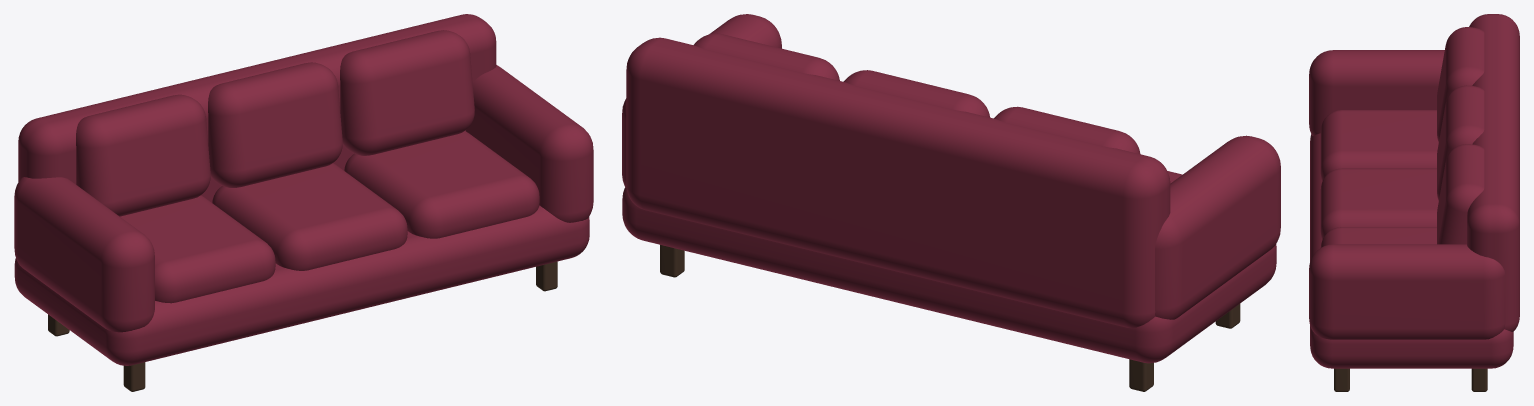
File: sofa_no_pillows_burgundy.glb
3 renders of one model, left to right at view 1: azimuth 30°, elevation 25°; view 2: azimuth 150°, elevation 25°; view 3: azimuth 270°, elevation 25°, orthographic. The views are drawn at different scales.
Visible parts, largest first — view 1: Upholstered foundation, Rounded padded arm, Plush back cushion.002, Plush back cushion.001, Plush back cushion, Seat cushion.002, Seat cushion.001, Rounded padded arm.001, Padded back frame, Seat cushion, Walnut foot, Walnut foot.002; view 2: Padded back frame, Upholstered foundation, Rounded padded arm, Plush back cushion.001, Plush back cushion.002, Plush back cushion, Rounded padded arm.001, Walnut foot.001, Walnut foot.003; view 3: Rounded padded arm.001, Padded back frame, Rounded padded arm, Upholstered foundation, Seat cushion, Seat cushion.001, Plush back cushion.002, Plush back cushion.001, Plush back cushion, Seat cushion.002, Walnut foot.003, Walnut foot.002.
Boxes of the visible parts, bbox=[...] form: Upholstered foundation: bbox=[14, 205, 589, 365]; Rounded padded arm: bbox=[14, 177, 154, 332]; Plush back cushion.002: bbox=[340, 30, 474, 155]; Plush back cushion.001: bbox=[208, 62, 342, 187]; Plush back cushion: bbox=[76, 94, 210, 216]; Seat cushion.002: bbox=[344, 131, 539, 238]; Seat cushion.001: bbox=[212, 163, 407, 270]; Rounded padded arm.001: bbox=[466, 65, 593, 222]; Padded back frame: bbox=[18, 14, 496, 202]; Seat cushion: bbox=[120, 195, 275, 303]; Walnut foot: bbox=[123, 362, 145, 391]; Walnut foot.002: bbox=[536, 261, 557, 291]; Padded back frame: bbox=[626, 37, 1170, 328]; Upholstered foundation: bbox=[622, 187, 1276, 363]; Rounded padded arm: bbox=[1155, 135, 1280, 319]; Plush back cushion.001: bbox=[843, 70, 990, 117]; Plush back cushion.002: bbox=[693, 33, 839, 80]; Plush back cushion: bbox=[994, 106, 1140, 154]; Rounded padded arm.001: bbox=[622, 14, 781, 187]; Walnut foot.001: bbox=[1129, 359, 1153, 391]; Walnut foot.003: bbox=[660, 245, 684, 277]; Rounded padded arm.001: bbox=[1309, 244, 1505, 339]; Padded back frame: bbox=[1467, 14, 1519, 331]; Rounded padded arm: bbox=[1309, 50, 1444, 135]; Upholstered foundation: bbox=[1310, 133, 1513, 368]; Seat cushion: bbox=[1320, 110, 1438, 181]; Seat cushion.001: bbox=[1320, 168, 1438, 239]; Plush back cushion.002: bbox=[1437, 144, 1484, 244]; Plush back cushion.001: bbox=[1437, 85, 1484, 200]; Plush back cushion: bbox=[1437, 27, 1484, 142]; Seat cushion.002: bbox=[1320, 227, 1436, 247]; Walnut foot.003: bbox=[1471, 368, 1487, 391]; Walnut foot.002: bbox=[1334, 368, 1349, 391].
Bounding box in the file's own units: 2.42 × 0.9999 × 0.995.
